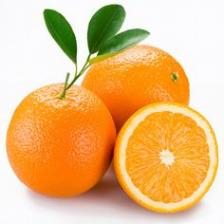orange: (7, 84, 117, 197), (115, 103, 219, 213), (83, 46, 189, 132)
